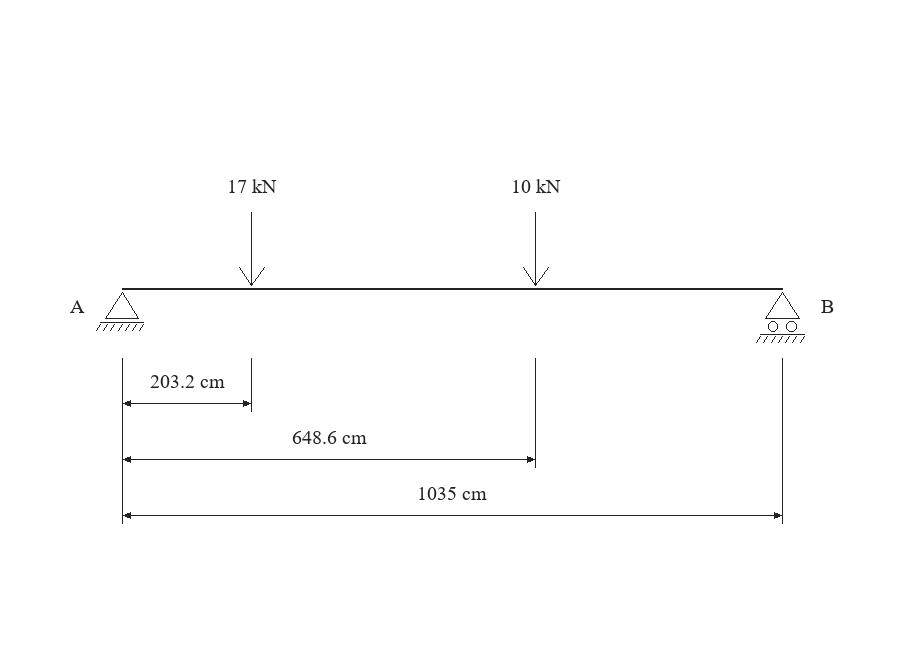pin_support: (96, 292, 144, 331)
point_load: (239, 212, 265, 286), (523, 212, 549, 286)
roller_support: (756, 292, 805, 343)
